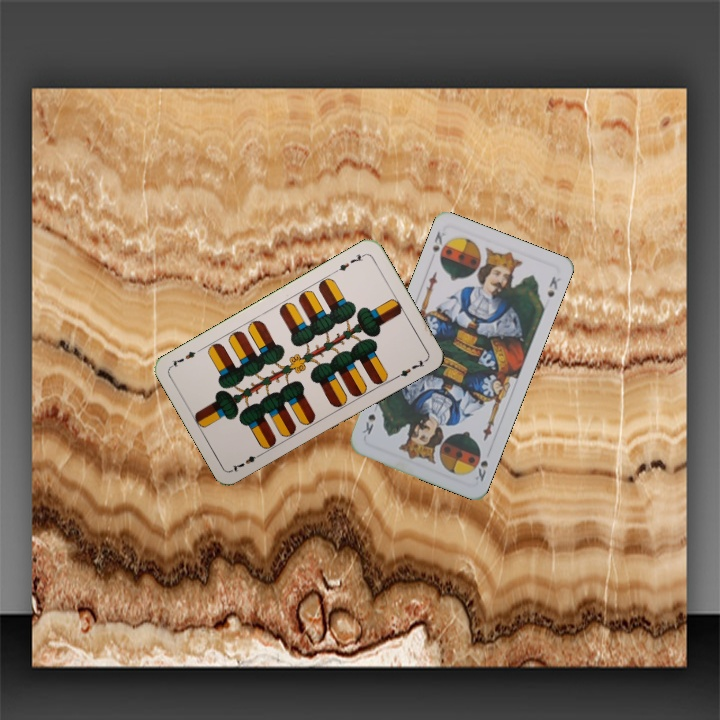E7: (331, 249, 368, 275), (228, 448, 265, 474)
SK: (428, 227, 451, 265), (471, 456, 491, 485)
